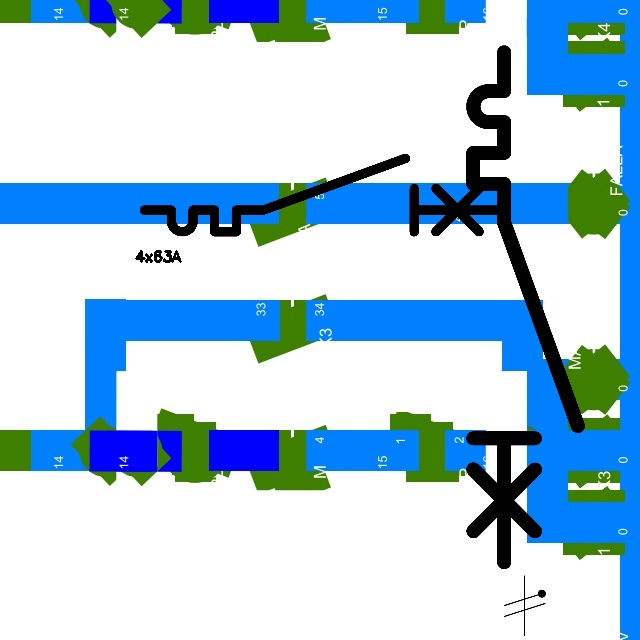interruptor_termomagnetico: (460, 39, 591, 575), (135, 149, 510, 241)
